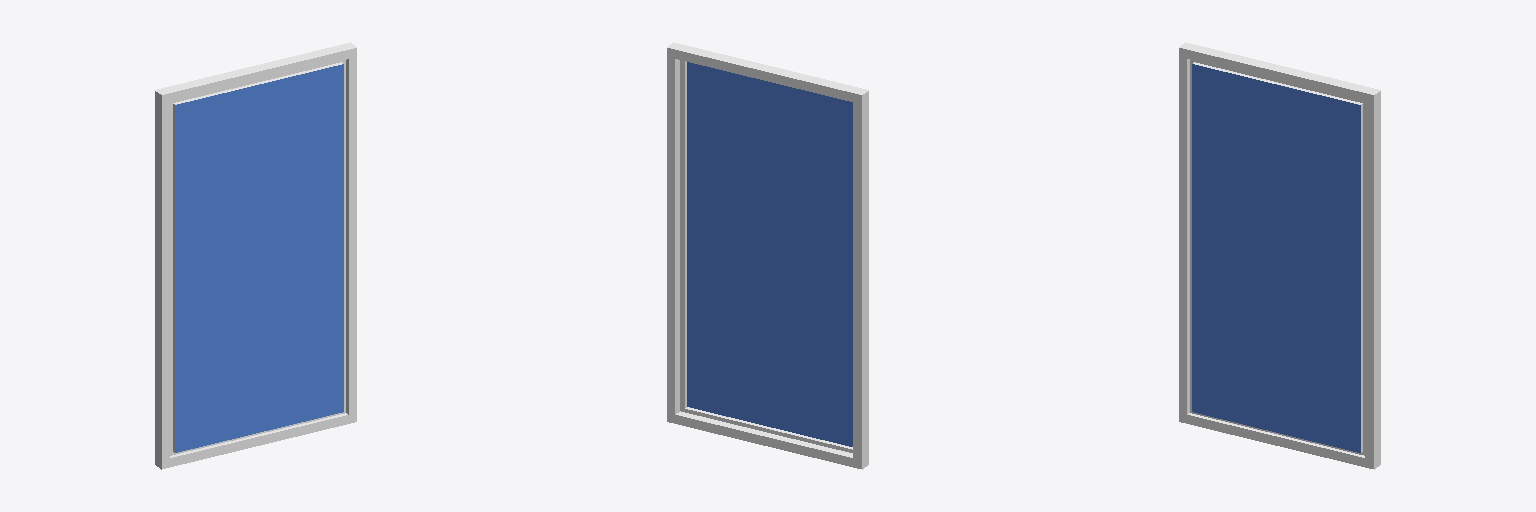
3 renders of one model, left to right at view 1: azimuth 30°, elevation 25°; view 2: azimuth 150°, elevation 25°; view 3: azimuth 330°, elevation 25°, orthographic.
Parts seen in each view (by area): view 1: Mesh2_Series_680_Thermally_Broken_Aliminium_Window_and_Door_Sys, Mesh1_Group1_Series_680_Thermally_Broken_Aliminium_Window_a.000; view 2: Mesh2_Series_680_Thermally_Broken_Aliminium_Window_and_Door_Sys, Mesh1_Group1_Series_680_Thermally_Broken_Aliminium_Window_a.000; view 3: Mesh2_Series_680_Thermally_Broken_Aliminium_Window_and_Door_Sys, Mesh1_Group1_Series_680_Thermally_Broken_Aliminium_Window_a.000.
Part boxes in pixels (x1,y1,x2,y2): Mesh2_Series_680_Thermally_Broken_Aliminium_Window_and_Door_Sys: (175, 64, 343, 452); Mesh1_Group1_Series_680_Thermally_Broken_Aliminium_Window_a.000: (155, 42, 356, 469); Mesh2_Series_680_Thermally_Broken_Aliminium_Window_and_Door_Sys: (687, 62, 852, 446); Mesh1_Group1_Series_680_Thermally_Broken_Aliminium_Window_a.000: (667, 42, 868, 469); Mesh2_Series_680_Thermally_Broken_Aliminium_Window_and_Door_Sys: (1192, 64, 1360, 452); Mesh1_Group1_Series_680_Thermally_Broken_Aliminium_Window_a.000: (1179, 42, 1380, 469).
Bounding box in the file's own units: 2.11 × 3.86 × 0.1347.